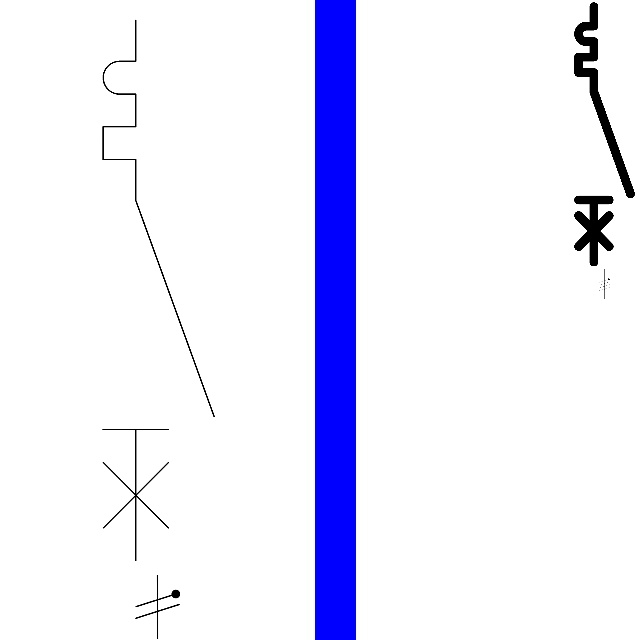interruptor_termomagnetico: (89, 6, 228, 574), (572, 0, 637, 268)
